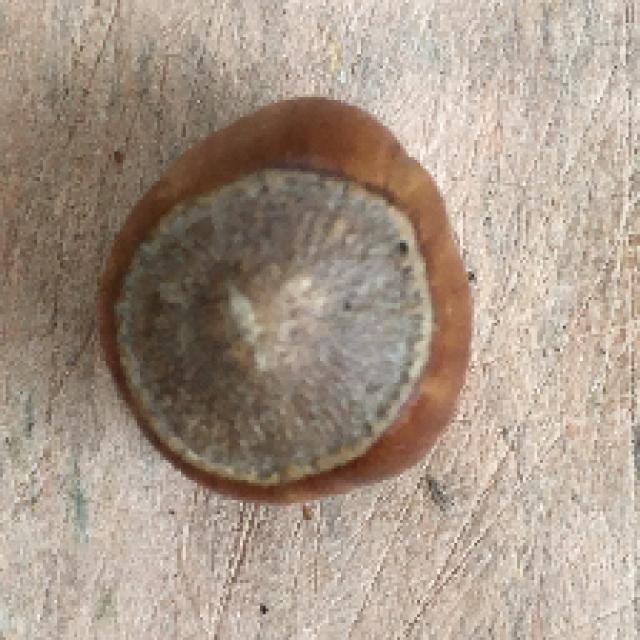damagedHazelnut: (91, 79, 479, 499)
